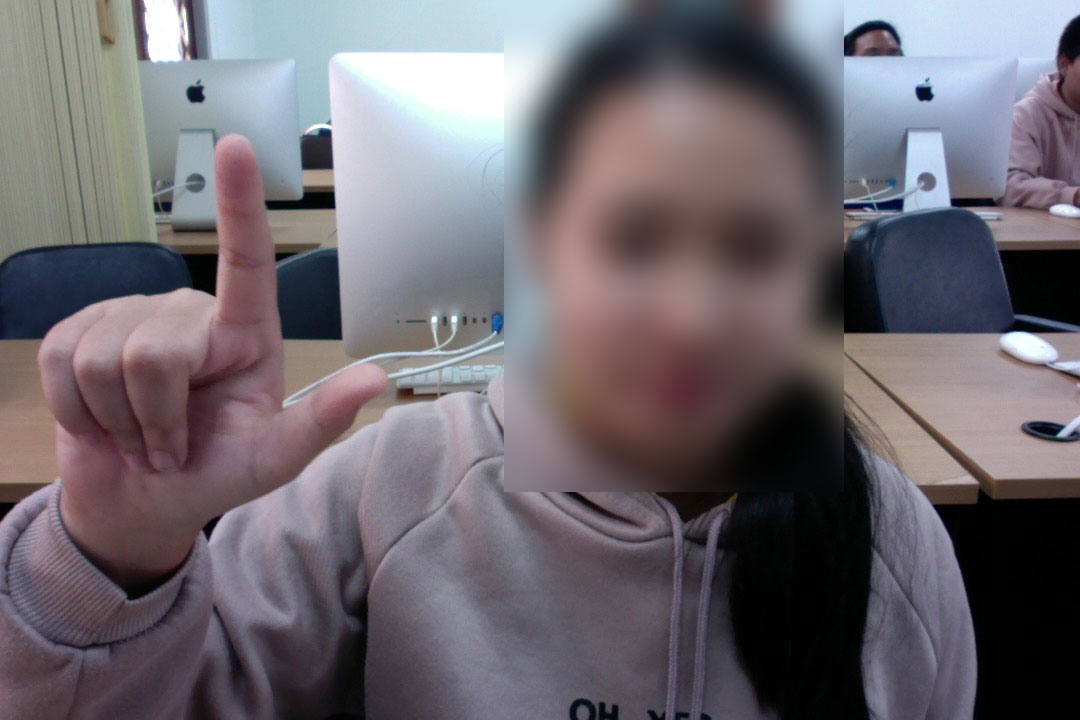lor: (33, 131, 408, 546)
